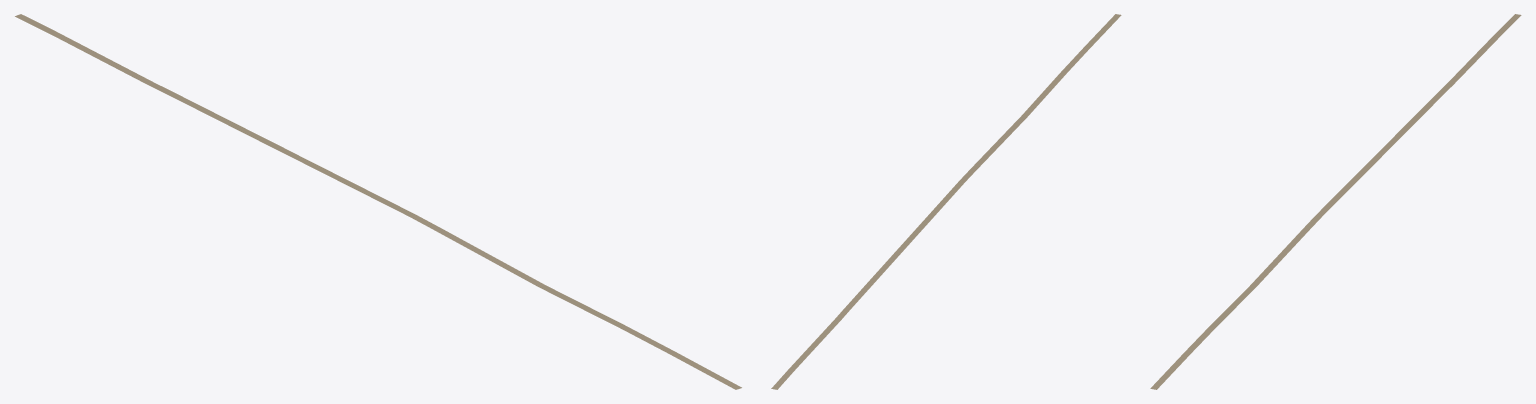
The model's file is farm_15_19_track.glb.
3 views of the same model, side by side, from view 1: azimuth 30°, elevation 25°; view 2: azimuth 150°, elevation 25°; view 3: azimuth 330°, elevation 25° (orthographic). The views are drawn at different scales.
Visible parts, largest first — view 1: geometry_0; view 2: geometry_0; view 3: geometry_0.
Part boxes in pixels (<box>): geometry_0: <box>15,14,741,389</box>; geometry_0: <box>771,14,1121,389</box>; geometry_0: <box>1150,14,1521,389</box>.
Size of the model in its own units: 67.3 by 5.78 by 444.
